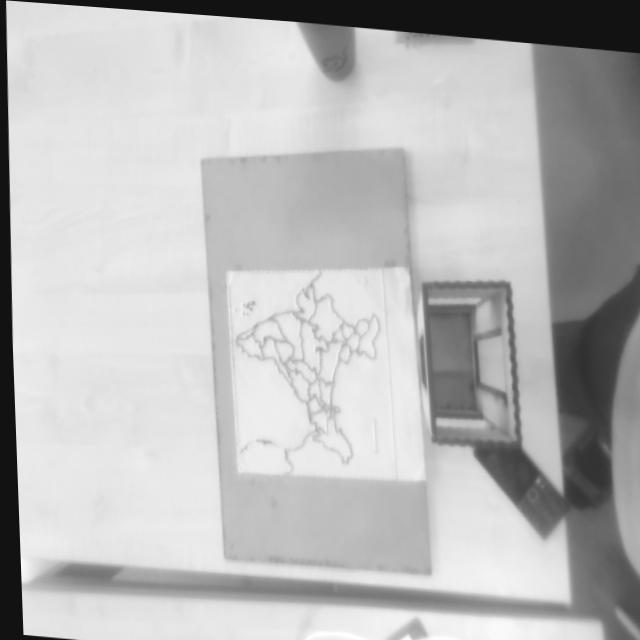map: (225, 261, 396, 489)
